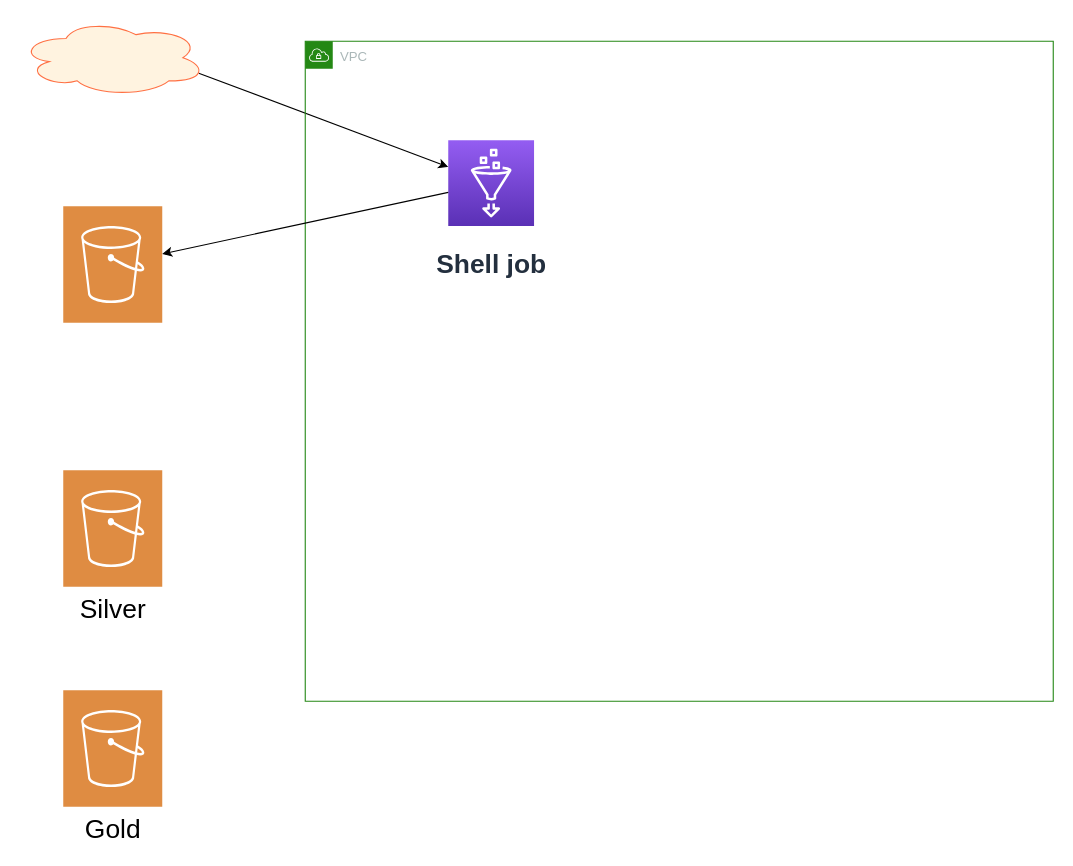
Image size: 1073x866. Some labels were removed from this diagram. The centre of each missing label's shape, as x and y in pixels:
"Bronze" goes at (112,264).
"External URL (CloudFront: NYC Taxi Parquet)" goes at (112,57).
